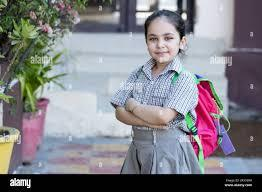Human: (110, 8, 203, 173)
